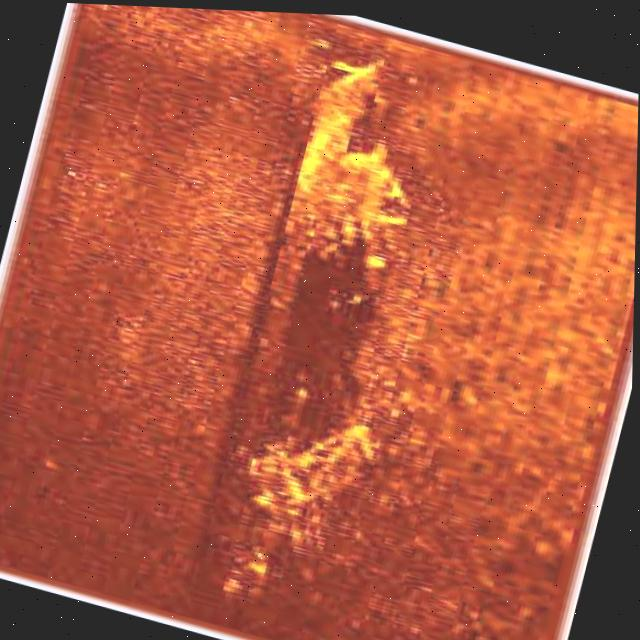shipwreck: (179, 36, 467, 631)
